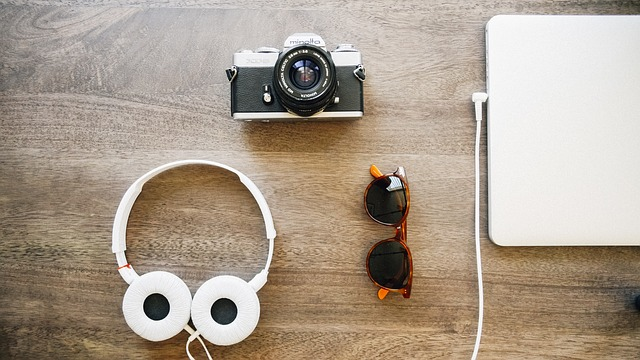headphones: (114, 160, 277, 346)
